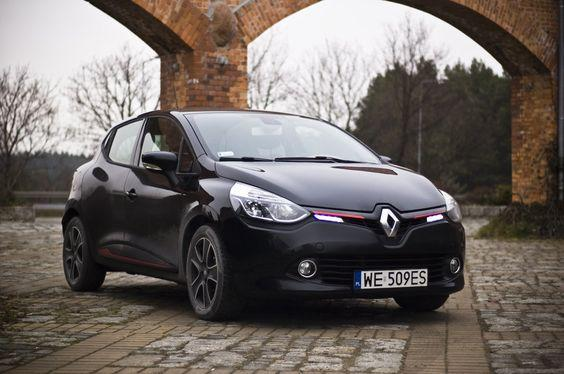Renault: (371, 202, 406, 249)
